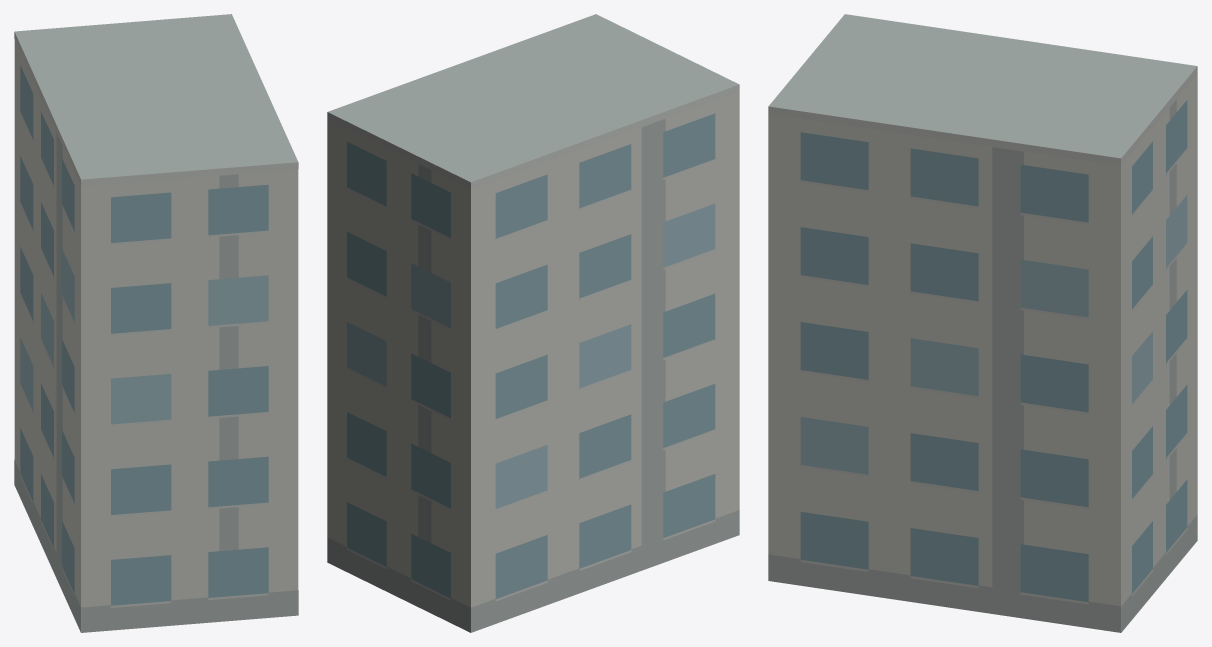
File: residential-9a08e722-4043-4fcd-ab57-3285785baff8.glb
3 views of the same model, side by side, from view 1: azimuth 30°, elevation 25°; view 2: azimuth 150°, elevation 25°; view 3: azimuth 270°, elevation 25° (orthographic). The views are drawn at different scales.
Parts seen in each view (by area): view 1: residential-9a08e722-4043-4fcd-ab57-3285785baff8.tmp; view 2: residential-9a08e722-4043-4fcd-ab57-3285785baff8.tmp; view 3: residential-9a08e722-4043-4fcd-ab57-3285785baff8.tmp.
Part boxes in pixels (bbox=[...]): residential-9a08e722-4043-4fcd-ab57-3285785baff8.tmp: bbox=[14, 14, 298, 632]; residential-9a08e722-4043-4fcd-ab57-3285785baff8.tmp: bbox=[327, 14, 739, 632]; residential-9a08e722-4043-4fcd-ab57-3285785baff8.tmp: bbox=[768, 14, 1197, 632].
Size of the model in its own units: 9.96 by 15.25 by 12.51.
